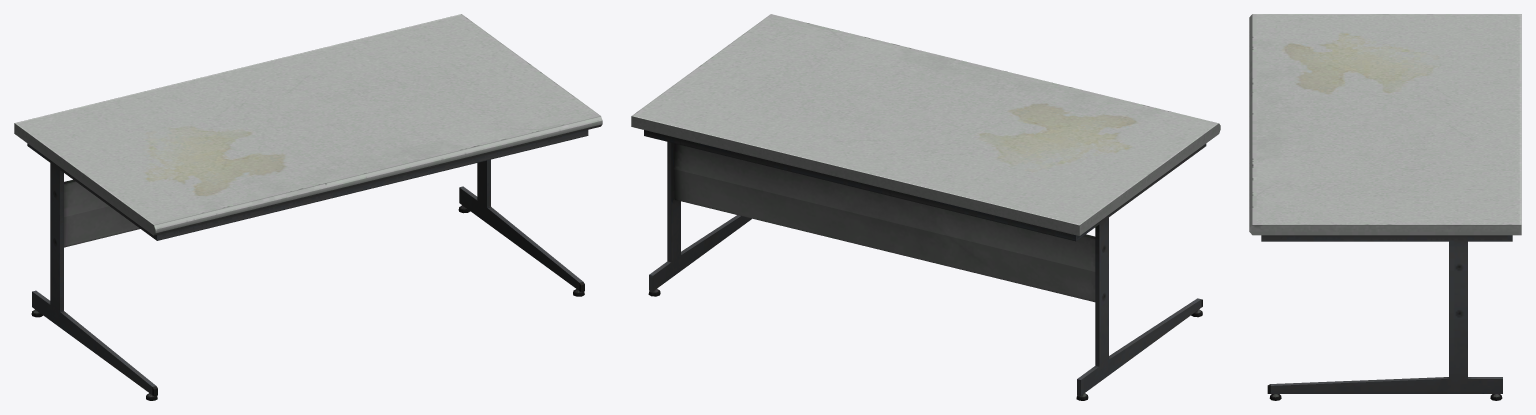
File: desk.fbx
The picture shows the model from 3 angles, left to right: view 1: azimuth 30°, elevation 25°; view 2: azimuth 150°, elevation 25°; view 3: azimuth 270°, elevation 25°; orthographic projection. The views are drawn at different scales.
Visible parts, largest first — view 1: lab_desk02; view 2: lab_desk02; view 3: lab_desk02.
Part boxes in pixels (x1,y1,x2,y2): lab_desk02: (14,14,602,400); lab_desk02: (631,14,1220,400); lab_desk02: (1249,14,1521,400).
Bounding box in the file's own units: 9539 × 3766 × 5203.
Materials: 1 (1 with a texture image).
